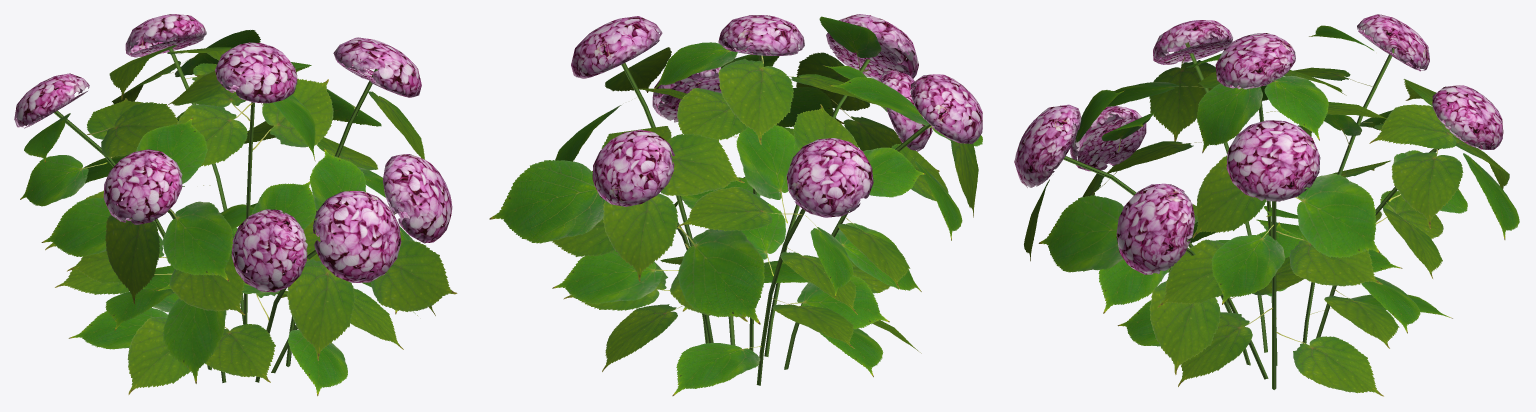
The model's file is NaturePlant02_1.FBX.
3 renders of one model, left to right at view 1: azimuth 30°, elevation 25°; view 2: azimuth 150°, elevation 25°; view 3: azimuth 270°, elevation 25°, orthographic. The views are drawn at different scales.
Parts seen in each view (by area): view 1: NaturePlant02_1; view 2: NaturePlant02_1; view 3: NaturePlant02_1.
Boxes of the visible parts, bbox=[...] form: NaturePlant02_1: bbox=[14, 14, 457, 396]; NaturePlant02_1: bbox=[489, 14, 982, 396]; NaturePlant02_1: bbox=[1014, 14, 1519, 396].
Size of the model in its own units: 0.5976 by 0.5167 by 0.7217.
